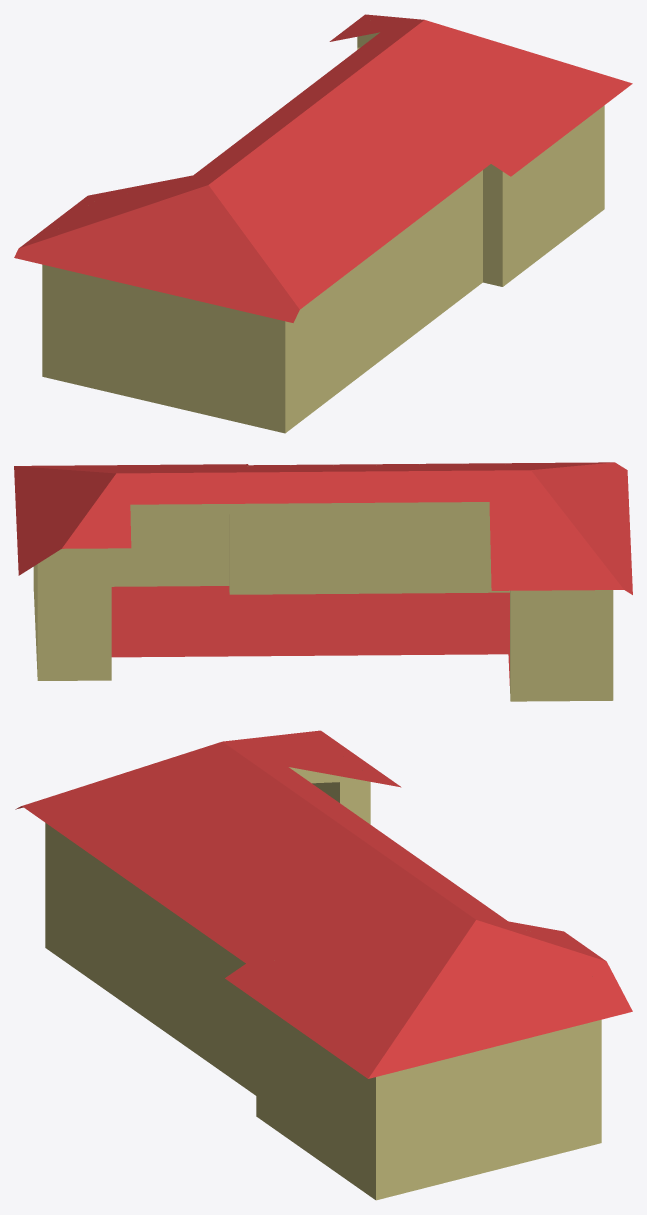
3 views of the same model, one above another, from view 1: azimuth 30°, elevation 25°; view 2: azimuth 150°, elevation 25°; view 3: azimuth 270°, elevation 25° (orthographic). The views are drawn at different scales.
Size of the model in its own units: 26.78 by 20.25 by 7.52.
